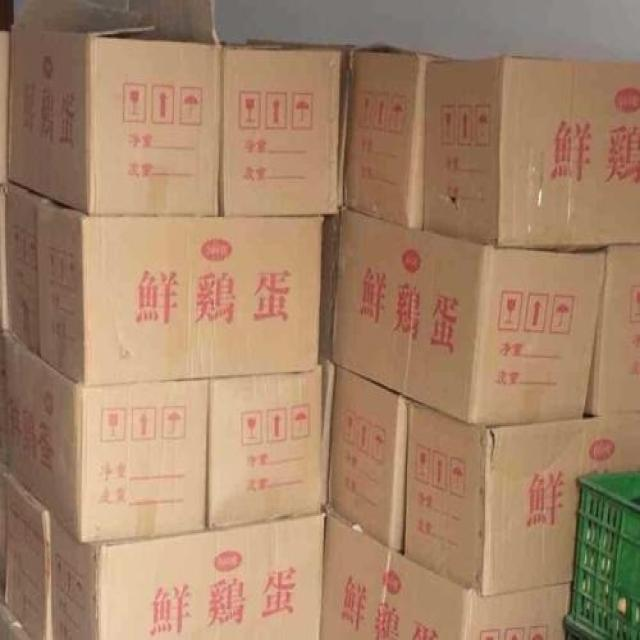box: (332, 202, 607, 423), (36, 195, 324, 384), (404, 395, 639, 596), (6, 1, 222, 217), (1, 327, 208, 543), (424, 56, 639, 249), (49, 510, 324, 638), (319, 507, 575, 638), (222, 38, 354, 216), (342, 44, 458, 231), (206, 368, 323, 527), (325, 366, 410, 555), (584, 243, 639, 418), (0, 461, 51, 638), (0, 176, 45, 356), (321, 220, 340, 367), (324, 358, 338, 509), (0, 31, 12, 183)
